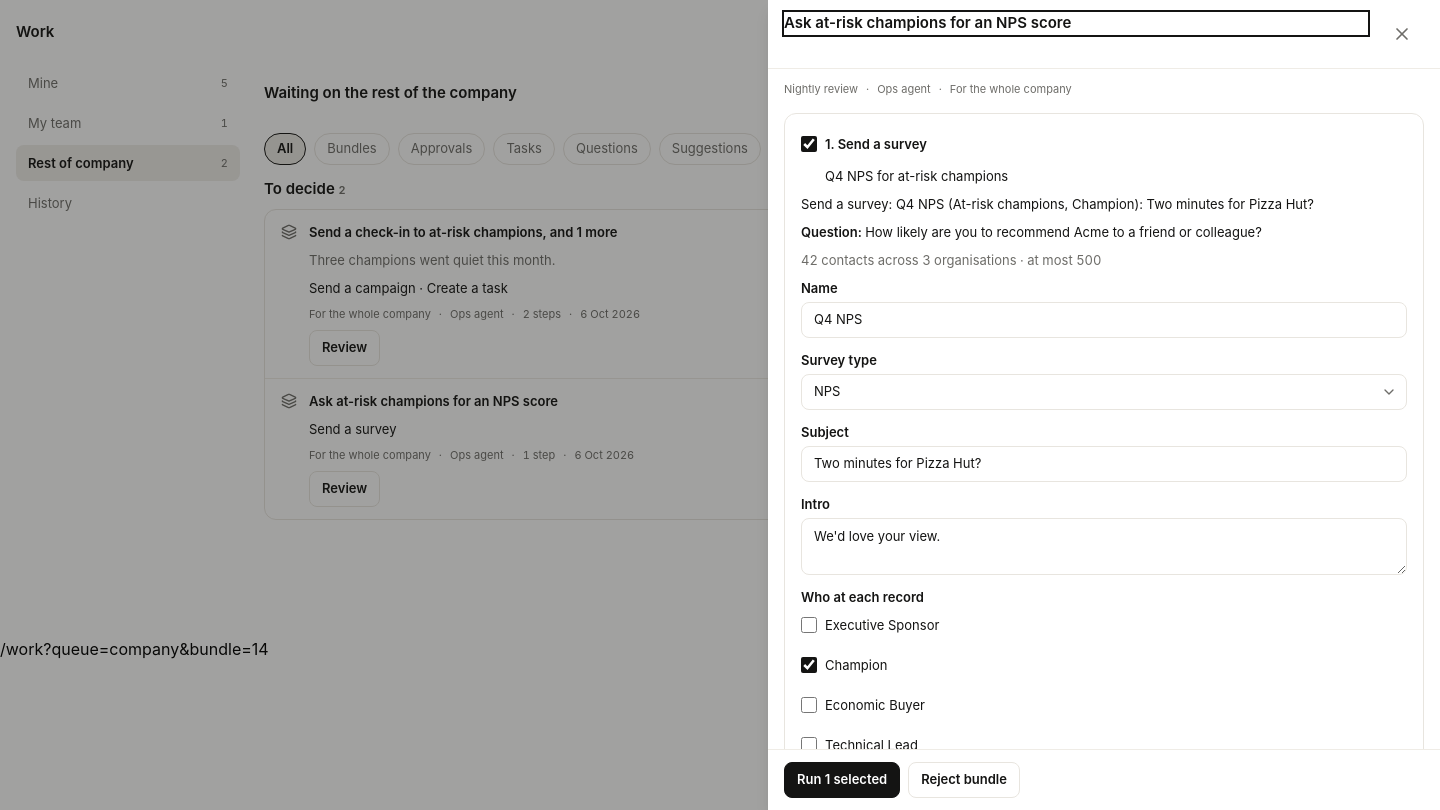
it: Bundle panel (spec §8.2; frontend Decisions 5 to 11) › says a send saved only as a draft was saved as a draft
Expected: the list item with test id "step-61" is shown, [785, 114, 1423, 749]
Click the button "Run 1 selected" at (842, 780), box [784, 762, 900, 798]
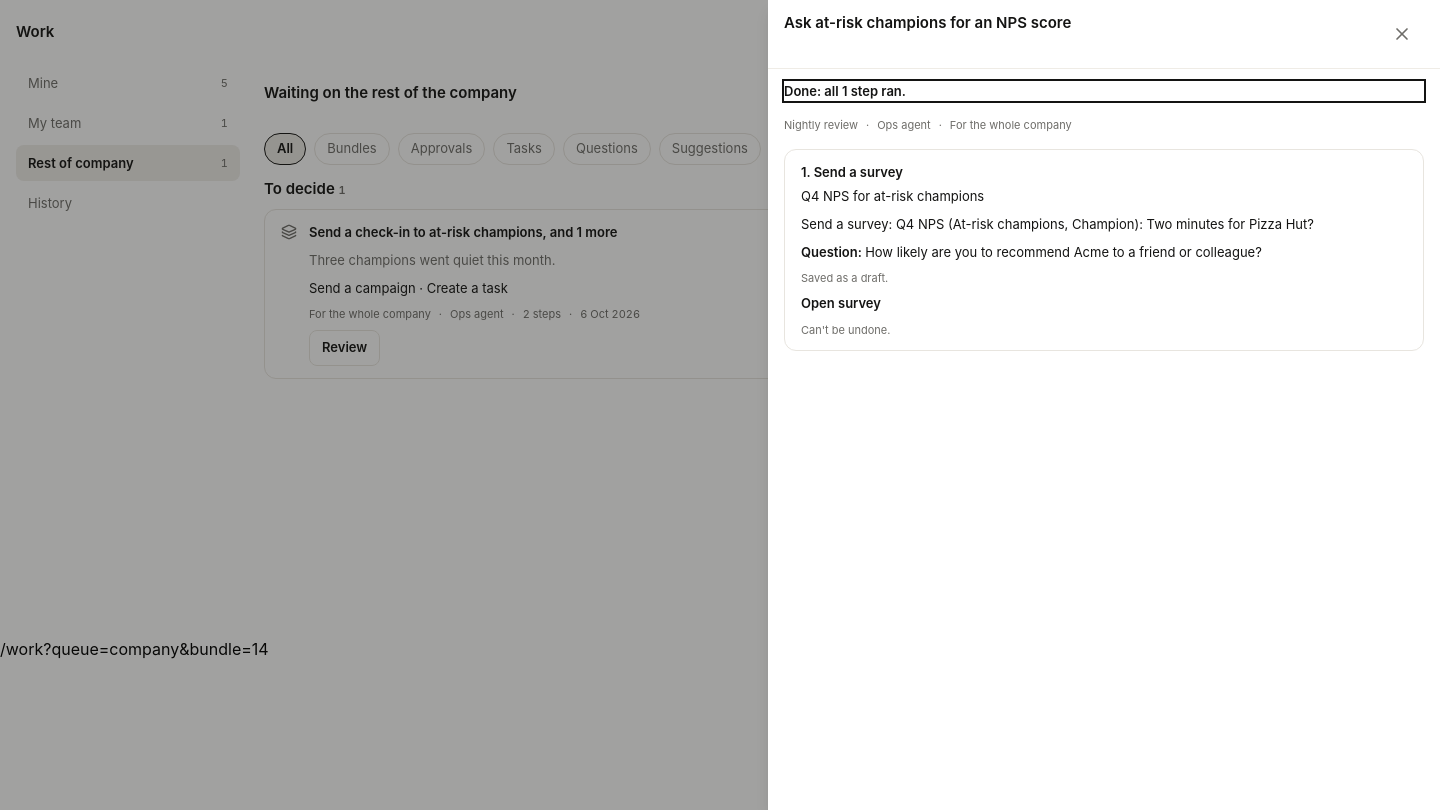
Now the text "Done: all 1 step ran." is shown, box [784, 83, 906, 99]
Now the text "Saved as a draft." is shown, box [801, 271, 888, 285]
